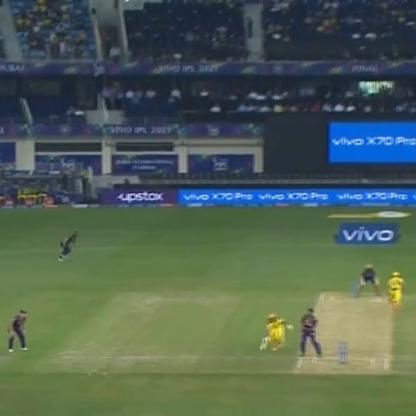pitch: (300, 290, 390, 367)
